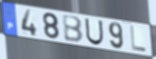4: (20, 8, 40, 38)
8: (42, 12, 60, 41)
9: (108, 22, 126, 51)
B: (61, 15, 85, 45)
L: (130, 25, 148, 54)
U: (84, 17, 105, 46)
